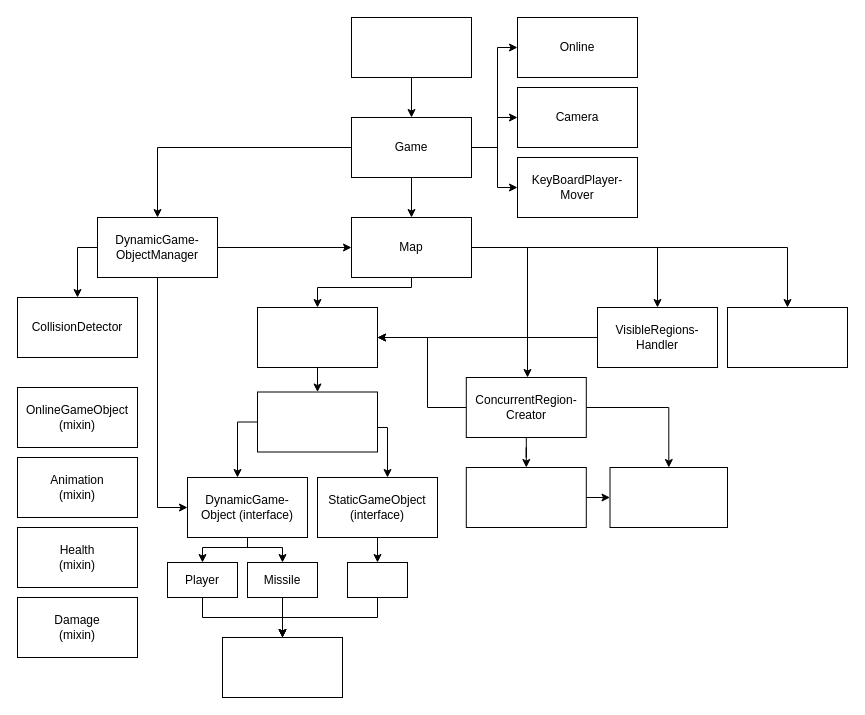
The diagram is 865 pixels wide and 715 high, and some of its shapes have lost their labels. The centre of each missing label's shape, as x and y in pixels:
"GameLoop" goes at point (411, 47).
"GameObject (interface)" goes at point (317, 421).
"GameObjectsTo-DrawingDTO" goes at point (282, 667).
"MapCreationRules" goes at point (668, 497).
"NoiseCreator" goes at point (525, 497).
"Region" goes at point (317, 337).
"RegionCreation-Queue" goes at point (787, 337).
"Tile" goes at point (377, 580).
